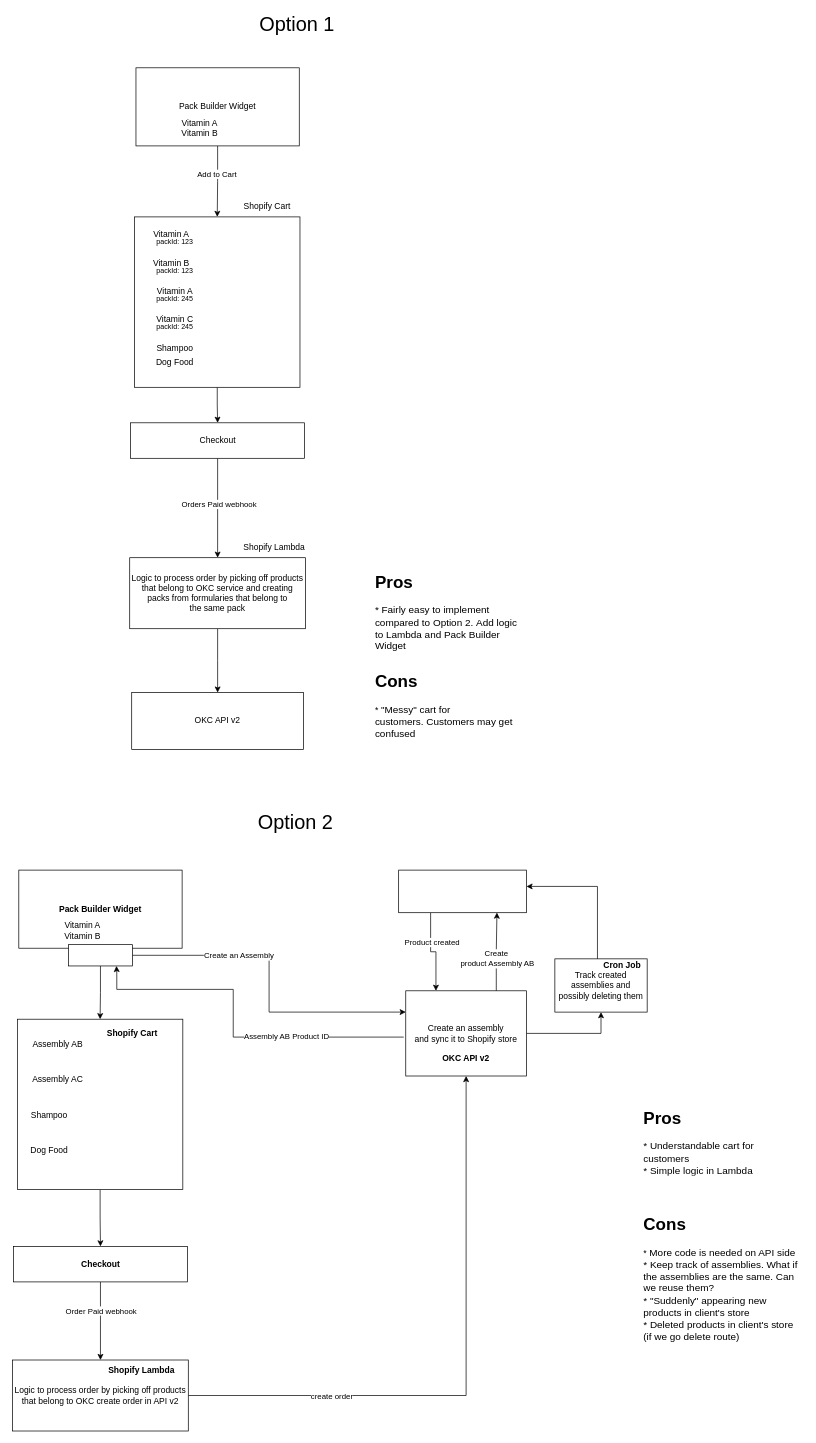
The diagram is 816 pixels wide and 1443 high, and some of its shapes have lost their labels. The shapes that lost their labels are listed below. From the top down, each one's centre as x and y in pixels, then its label:
the point at 462,891: Shopify API
the point at 100,955: Before Cart
